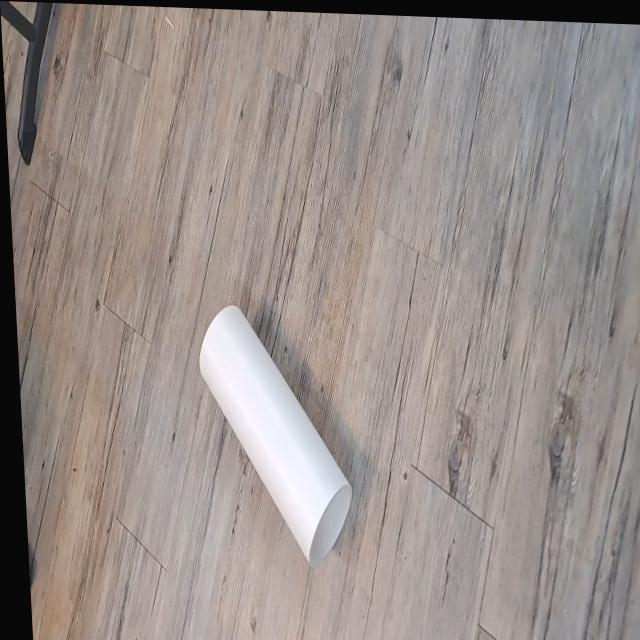CORAL: (176, 273, 395, 585)
